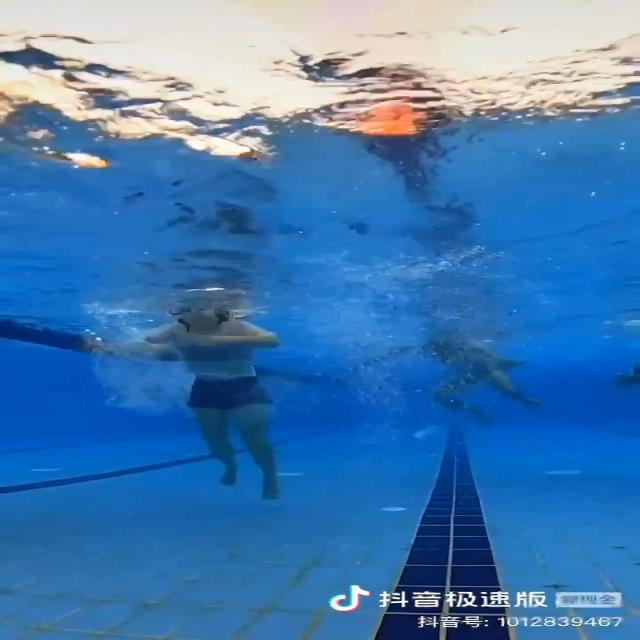Swimming: (129, 310, 287, 498)
